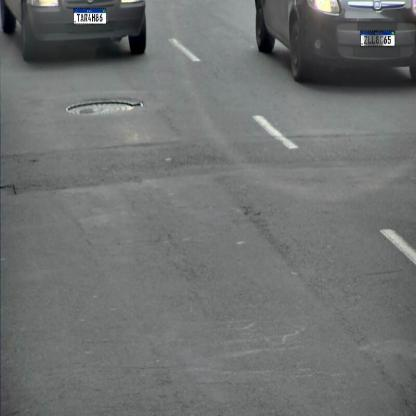PlacaM: (360, 30, 396, 46), (73, 8, 107, 24)
